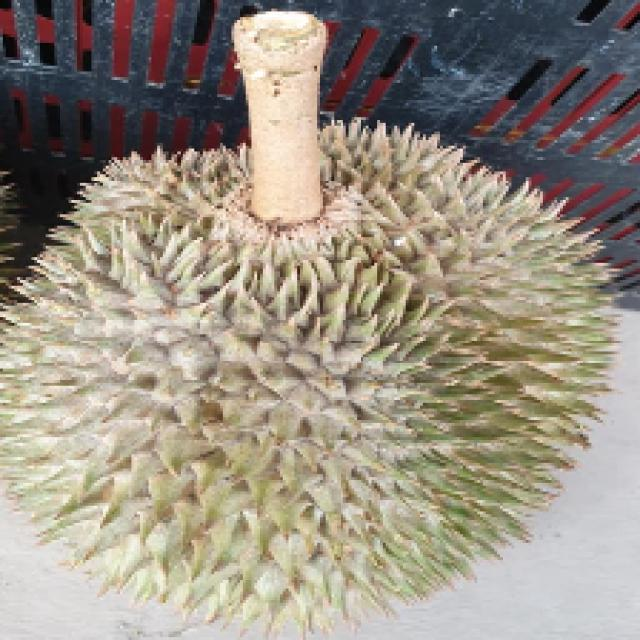d101: (33, 153, 600, 608)
